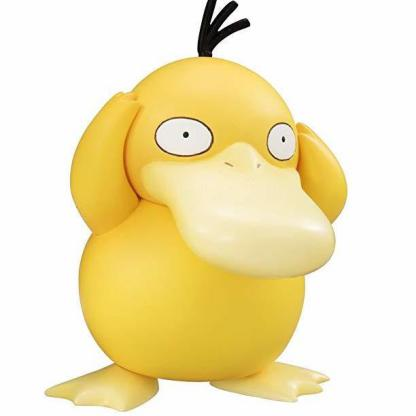Psyduck: (60, 1, 359, 416)
